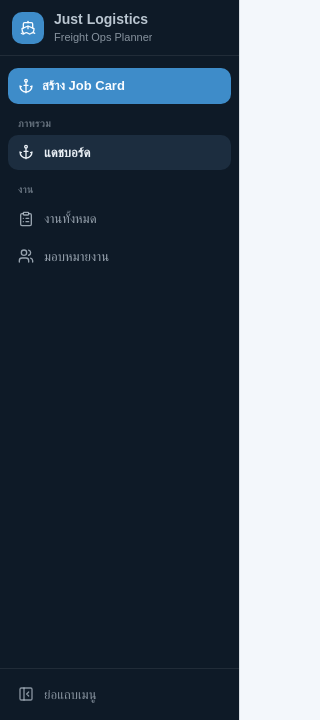
Test: Sidebar › hides labels when collapsed
Click the button "ย่อแถบเมนู" at [120, 694], box [8,676,231,712]
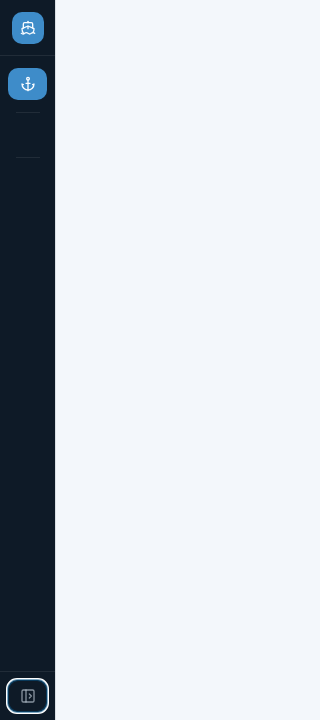
Expected: the link "งานทั้งหมด" is gone
Expected: the text "ภาพรวม" is gone
